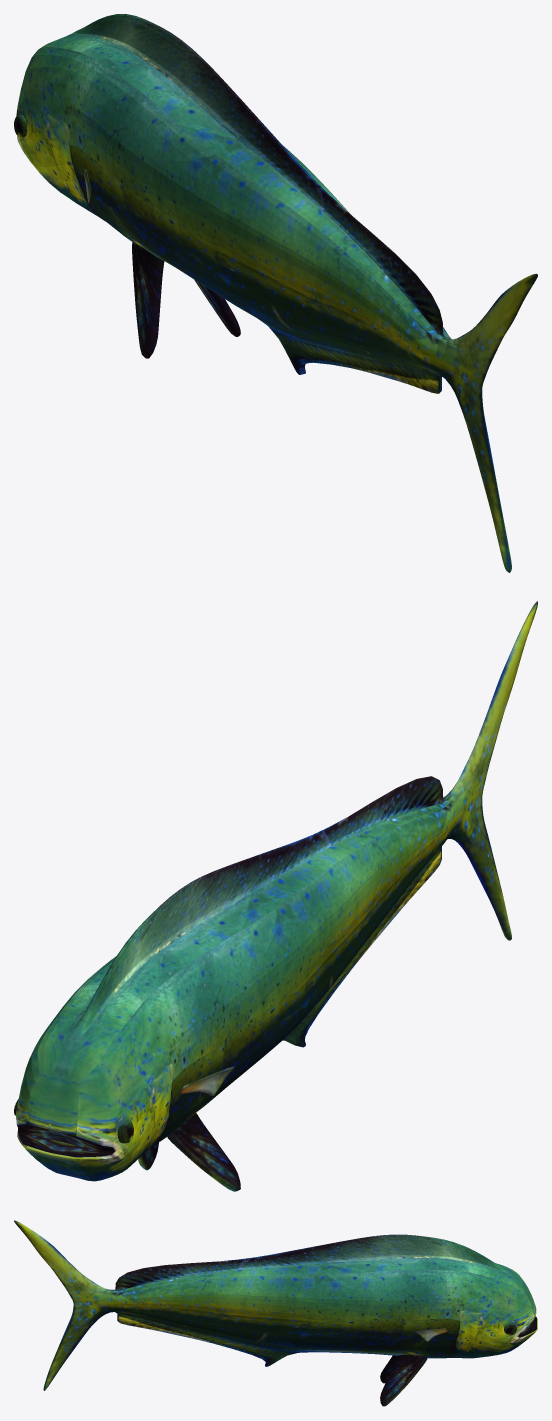
File: mahi-mahi_female_static_parts.glb
3 renders of one model, top to bottom at view 1: azimuth 30°, elevation 25°; view 2: azimuth 150°, elevation 25°; view 3: azimuth 270°, elevation 25°, orthographic. The views are drawn at different scales.
Parts seen in each view (by area): view 1: mahi-female, mahi-female.pelvic-fins.l, mahi-female.pelvic-fins.r; view 2: mahi-female, mahi-female.pelvic-fins.l, mahi-female.pectoral-fins.l; view 3: mahi-female, mahi-female.pelvic-fins.r.
Boxes of the visible parts, bbox=[...] form: mahi-female: bbox=[14, 14, 537, 572]; mahi-female.pelvic-fins.l: bbox=[132, 242, 164, 358]; mahi-female.pelvic-fins.r: bbox=[194, 280, 240, 336]; mahi-female: bbox=[14, 601, 537, 1181]; mahi-female.pelvic-fins.l: bbox=[167, 1113, 240, 1191]; mahi-female.pectoral-fins.l: bbox=[180, 1066, 234, 1095]; mahi-female: bbox=[14, 1220, 537, 1390]; mahi-female.pelvic-fins.r: bbox=[380, 1355, 427, 1406].
Bounding box in the file's own units: 1.66 × 3.59 × 9.79.
1 material, 1 textured.
